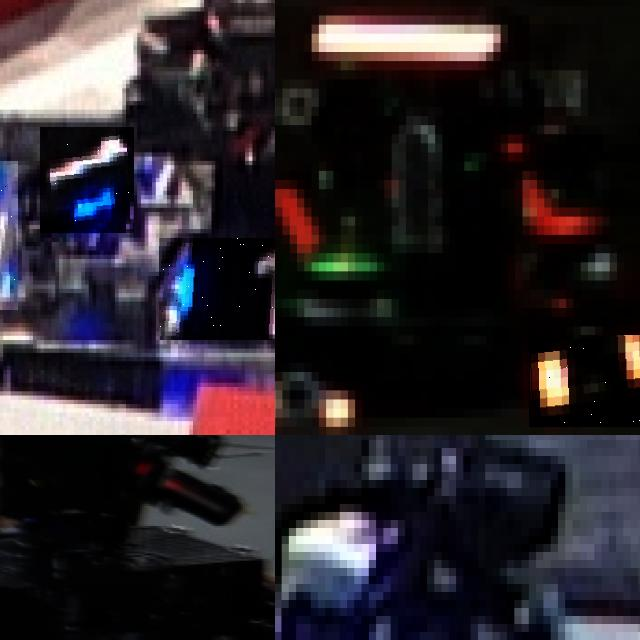B1: (159, 237, 275, 340), (40, 127, 134, 233), (0, 160, 18, 310)
Rs: (529, 335, 640, 426)
